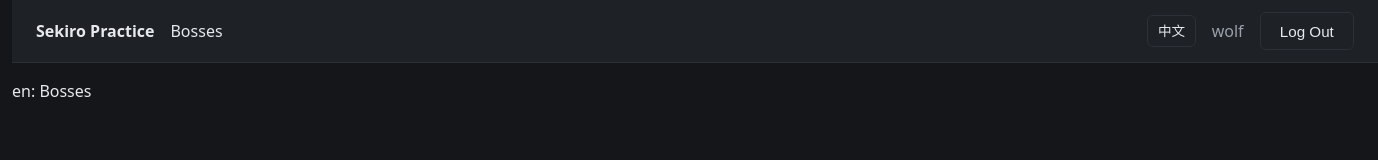
Test: LanguageProvider › saves a logged-in user's choice to their account
Click the button with aria-label "Switch to Chinese" at (1172, 31), box [1147,15,1196,47]
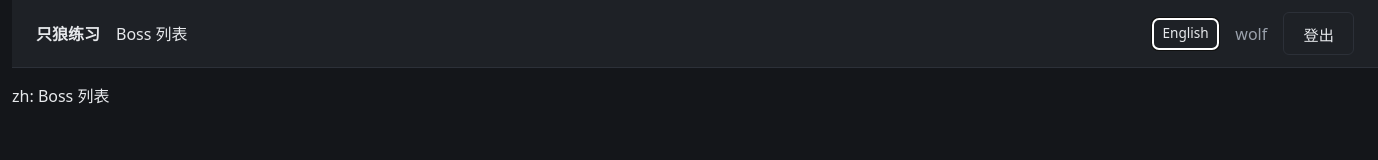
Expected: the text "zh: Boss 列表" is shown, [12,85,110,107]
Click the button with aria-label "切换到英文" at (1186, 34), box [1152,18,1219,50]
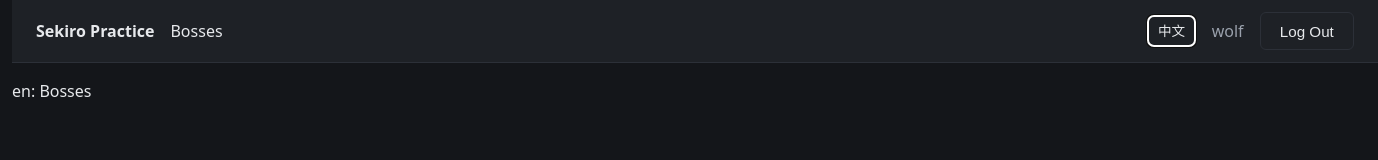
Expected: the text "en: Bosses" is shown, [12,80,92,102]
